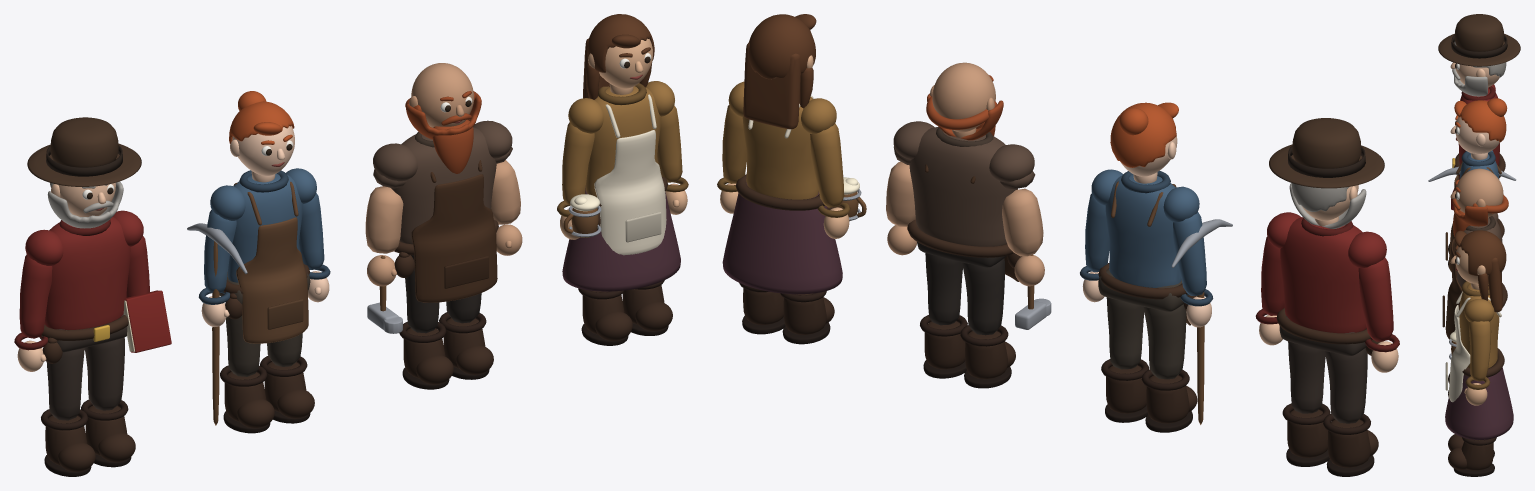
File: PNJ.fbx
The picture shows the model from 3 angles, left to right: view 1: azimuth 30°, elevation 25°; view 2: azimuth 150°, elevation 25°; view 3: azimuth 270°, elevation 25°; orthographic projection. The views are drawn at different scales.
Visible parts, largest first — view 1: Gaspard_Buste_Haut, Margot_Buste_Haut, Liesel_Buste_Haut, Brom_Buste_Tablier, Brom_Buste_Haut, Liesel_Buste_Tablier, Margot_Buste_Tablier, Margot_Corps_Bas, Brom_Buste_Peau, Gaspard_Corps_Bas, Gaspard_Tete_Chapeau, Liesel_Corps_Bottes (+29 smaller); view 2: Gaspard_Buste_Haut, Brom_Buste_Haut, Liesel_Buste_Haut, Margot_Buste_Haut, Margot_Corps_Bas, Margot_Tete_Cheveux, Liesel_Corps_Bas, Gaspard_Corps_Bas, Brom_Corps_Bas, Brom_Buste_Peau, Gaspard_Tete_Chapeau, Liesel_Tete_Cheveux (+27 smaller); view 3: Margot_Corps_Bas, Gaspard_Tete_Chapeau, Margot_Buste_Haut, Margot_Tete_Cheveux, Liesel_Tete_Cheveux, Brom_Tete_Peau, Margot_Corps_Bottes, Margot_Buste_Tablier, Liesel_Tete_Peau, Brom_Tete_Barbe, Brom_Buste_Tablier, Gaspard_Tete_Barbe (+19 smaller).
Boxes of the visible parts, x1,y1,x2,y2 form: Gaspard_Buste_Haut: [19, 210, 149, 338]; Margot_Buste_Haut: [562, 81, 682, 205]; Liesel_Buste_Haut: [204, 168, 324, 292]; Brom_Buste_Tablier: [411, 160, 497, 302]; Brom_Buste_Haut: [373, 120, 512, 244]; Liesel_Buste_Tablier: [233, 181, 308, 343]; Margot_Buste_Tablier: [594, 94, 666, 255]; Margot_Corps_Bas: [562, 191, 680, 291]; Brom_Buste_Peau: [365, 160, 522, 286]; Gaspard_Corps_Bas: [39, 314, 127, 420]; Gaspard_Tete_Chapeau: [27, 117, 141, 186]; Liesel_Corps_Bottes: [224, 361, 314, 428]; Gaspard_Buste_Haut: [1261, 212, 1393, 341]; Brom_Buste_Haut: [893, 121, 1035, 246]; Liesel_Buste_Haut: [1085, 169, 1206, 295]; Margot_Buste_Haut: [722, 81, 844, 207]; Margot_Corps_Bas: [722, 182, 842, 294]; Margot_Tete_Cheveux: [743, 14, 816, 129]; Liesel_Corps_Bas: [1098, 268, 1188, 379]; Gaspard_Corps_Bas: [1279, 316, 1367, 423]; Brom_Corps_Bas: [917, 242, 1006, 335]; Brom_Buste_Peau: [886, 128, 1044, 286]; Gaspard_Tete_Chapeau: [1269, 118, 1384, 188]; Liesel_Tete_Cheveux: [1110, 102, 1178, 167]; Margot_Corps_Bas: [1445, 367, 1513, 439]; Gaspard_Tete_Chapeau: [1438, 14, 1520, 66]; Margot_Buste_Haut: [1459, 284, 1499, 381]; Margot_Tete_Cheveux: [1454, 230, 1506, 312]; Liesel_Tete_Cheveux: [1454, 98, 1507, 142]; Brom_Tete_Peau: [1455, 168, 1503, 217]; Margot_Corps_Bottes: [1448, 434, 1493, 470]; Margot_Buste_Tablier: [1448, 291, 1501, 402]; Liesel_Tete_Peau: [1455, 116, 1499, 153]; Brom_Tete_Barbe: [1452, 198, 1487, 236]; Brom_Buste_Tablier: [1445, 235, 1501, 339]; Gaspard_Tete_Barbe: [1452, 68, 1487, 96].
Bounding box in the file's own units: 15.71 × 7.5 × 2.52.
